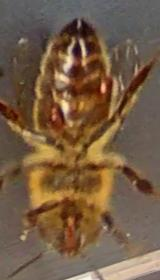varroa_mite: (34, 102, 70, 134), (88, 72, 121, 106)
